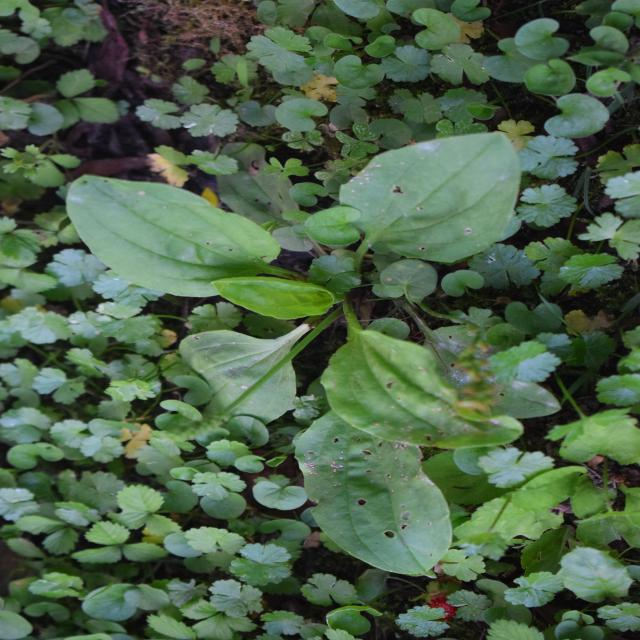plantain: (130, 103, 516, 517)
